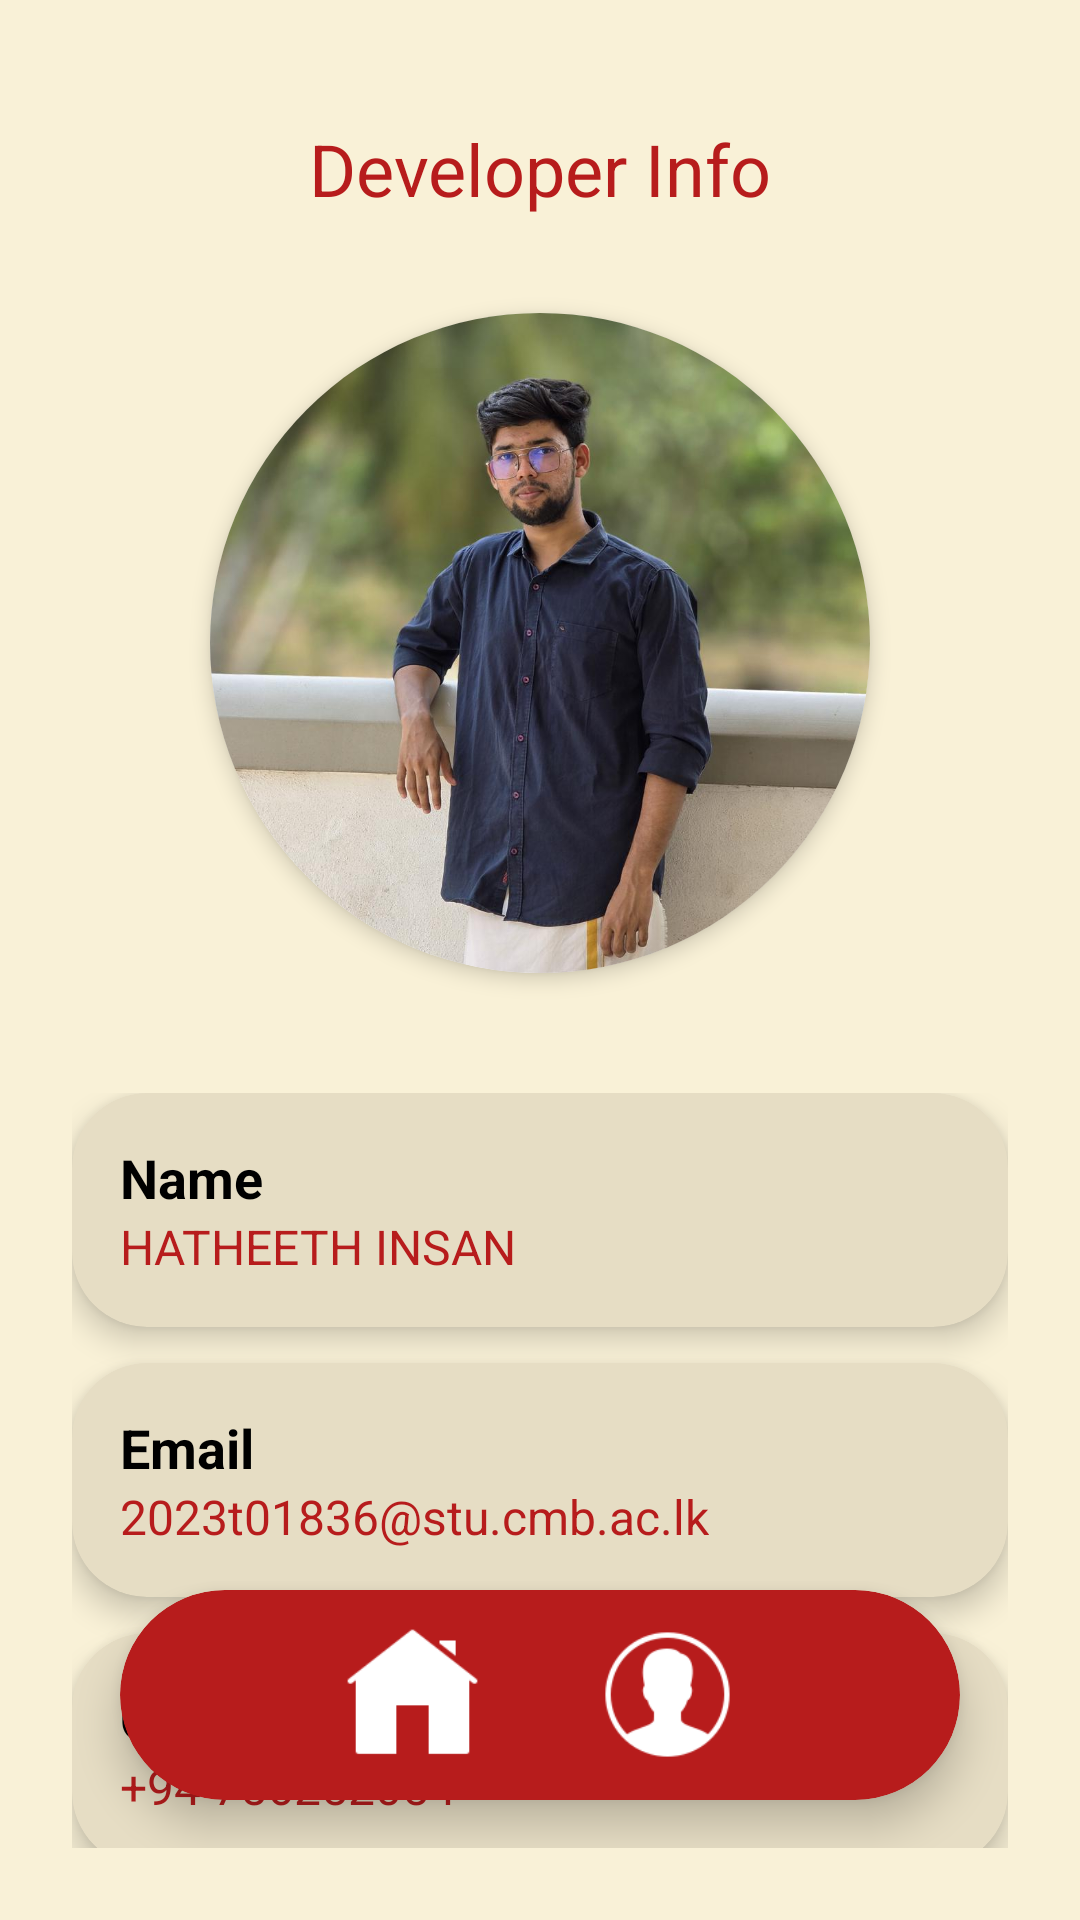

Named icons in this screenshot (1080×1920) and their centers, (x=x, y=y):
home: (x=412, y=1691)
user: (x=667, y=1694)
